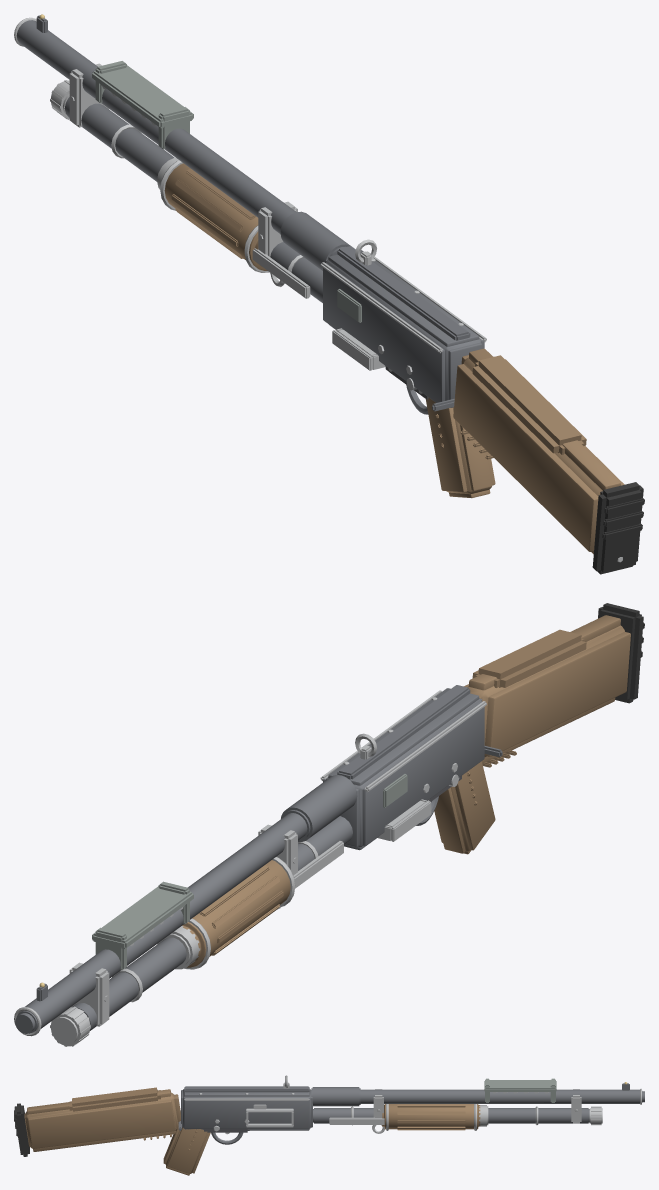
File: WPN-03_Shotgun.fbx
3 views of the same model, one above another, from view 1: azimuth 30°, elevation 25°; view 2: azimuth 150°, elevation 25°; view 3: azimuth 270°, elevation 25° (orthographic). The views are drawn at different scales.
Parts seen in each view (by area): view 1: stock, receiver, barrel, stock_comb, mag_tube, pistol_grip, butt_pad, pump, heat_shield, receiver_rib, chamber, pump_flutes (+6 smaller); view 2: stock, receiver, barrel, mag_tube, pistol_grip, pump, stock_comb, heat_shield, chamber, receiver_rib, pump_flutes, butt_pad (+8 smaller); view 3: stock, receiver, barrel, mag_tube, pump, pistol_grip, stock_comb, pump_flutes, chamber, receiver_rib, heat_shield, eject_port (+8 smaller).
Part boxes in pixels (box(x1,y1,x2,y2)): stock: box(453, 348, 624, 553); receiver: box(323, 250, 484, 407); barrel: box(16, 20, 296, 233); stock_comb: box(472, 355, 586, 454); mag_tube: box(64, 97, 322, 302); pistol_grip: box(425, 397, 495, 498); butt_pad: box(592, 482, 643, 574); pump: box(164, 163, 267, 270); heat_shield: box(92, 65, 193, 128); receiver_rib: box(337, 246, 470, 340); chamber: box(280, 211, 350, 270); pump_flutes: box(171, 169, 255, 259); stock: box(464, 615, 630, 763); receiver: box(323, 688, 484, 850); barrel: box(17, 813, 307, 1033); mag_tube: box(72, 816, 352, 1030); pistol_grip: box(434, 761, 495, 854); pump: box(182, 860, 290, 967); stock_comb: box(472, 629, 586, 687); heat_shield: box(92, 886, 193, 948); chamber: box(281, 775, 357, 841); receiver_rib: box(337, 685, 470, 779); pump_flutes: box(199, 865, 283, 956); butt_pad: box(598, 603, 643, 703); stock: box(24, 1089, 180, 1151); receiver: box(181, 1089, 312, 1130); barrel: box(360, 1089, 642, 1103); mag_tube: box(313, 1108, 589, 1123); pump: box(382, 1104, 480, 1129); pistol_grip: box(163, 1120, 210, 1175); stock_comb: box(69, 1087, 160, 1111); pump_flutes: box(397, 1104, 465, 1130); chamber: box(311, 1087, 360, 1106); receiver_rib: box(184, 1086, 309, 1092); heat_shield: box(484, 1080, 556, 1093); eject_port: box(246, 1108, 293, 1127).
Size of the model in its own units: 0.064 by 0.1633 by 0.9576.
